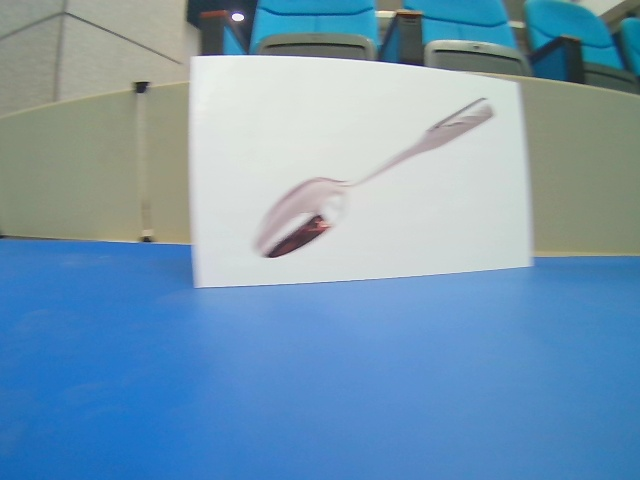dish: (191, 56, 533, 288)
